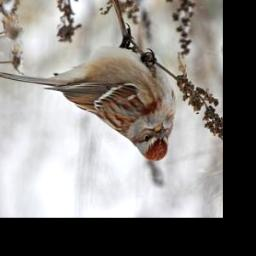Sparrow: (0, 26, 178, 162)
